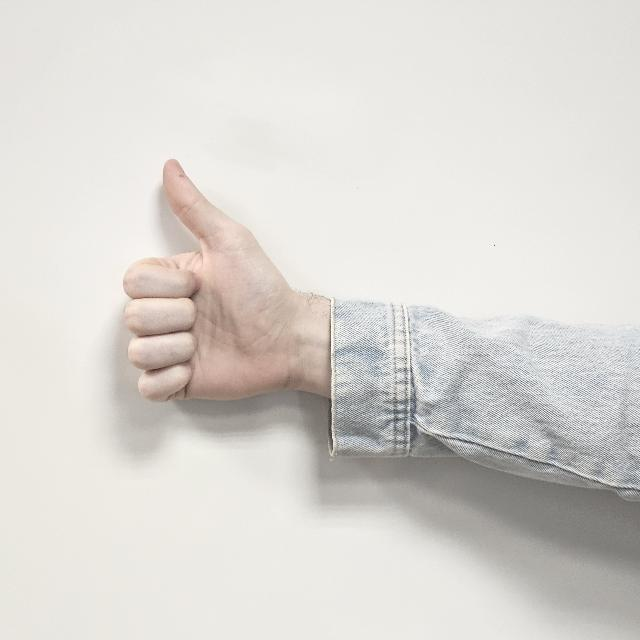Start: (122, 157, 322, 429)
